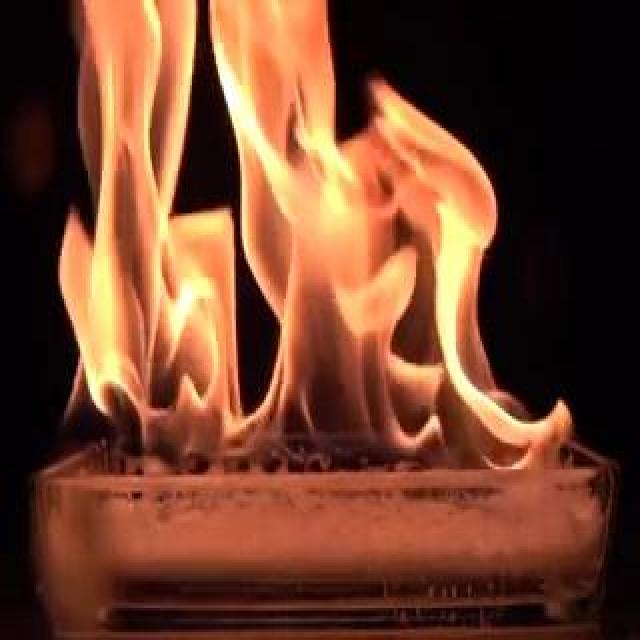Fire: (28, 2, 574, 482)
